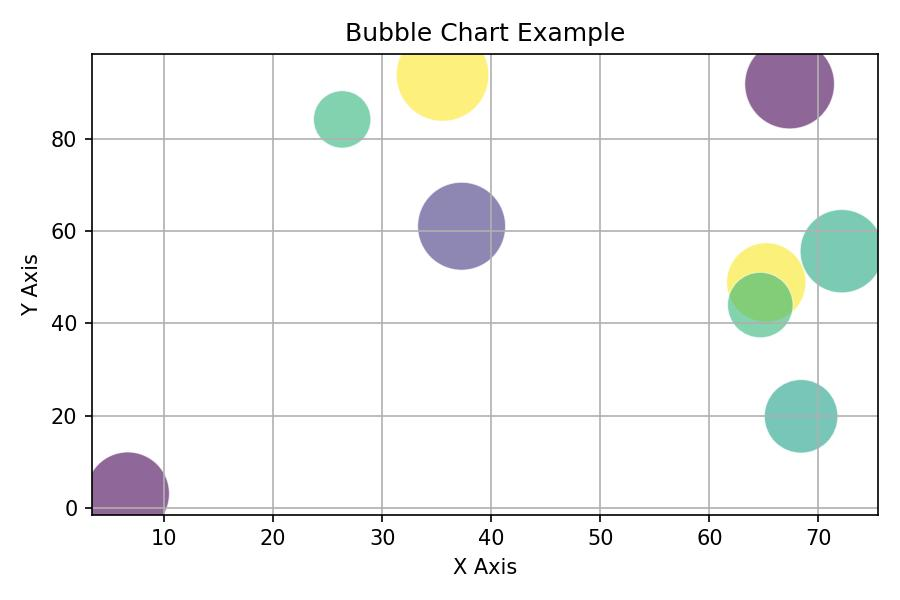axis: (71, 504, 895, 552), (54, 48, 109, 536)
circle: (417, 181, 505, 268), (743, 51, 836, 128), (801, 210, 880, 294), (395, 54, 490, 122), (725, 242, 809, 313), (764, 378, 841, 452), (89, 450, 171, 518), (725, 275, 793, 336), (307, 90, 373, 148)
